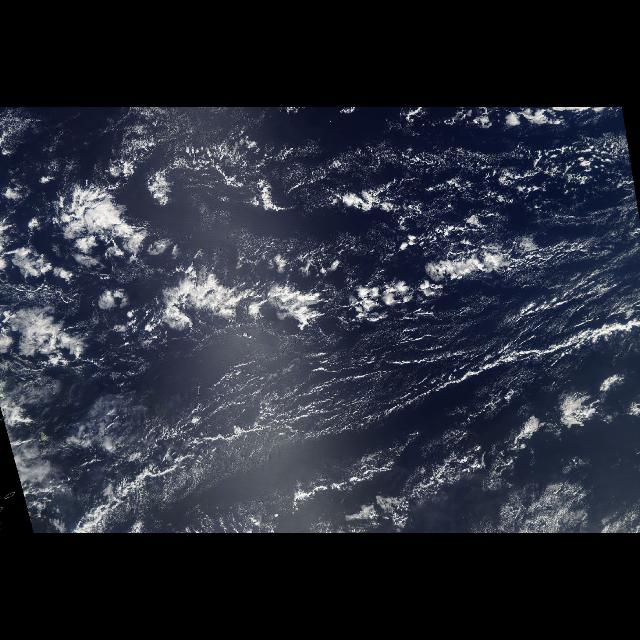Fish: (125, 229, 542, 343)
